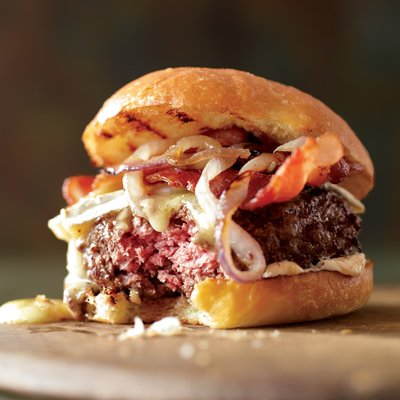hamburger_buns: (71, 59, 383, 213)
